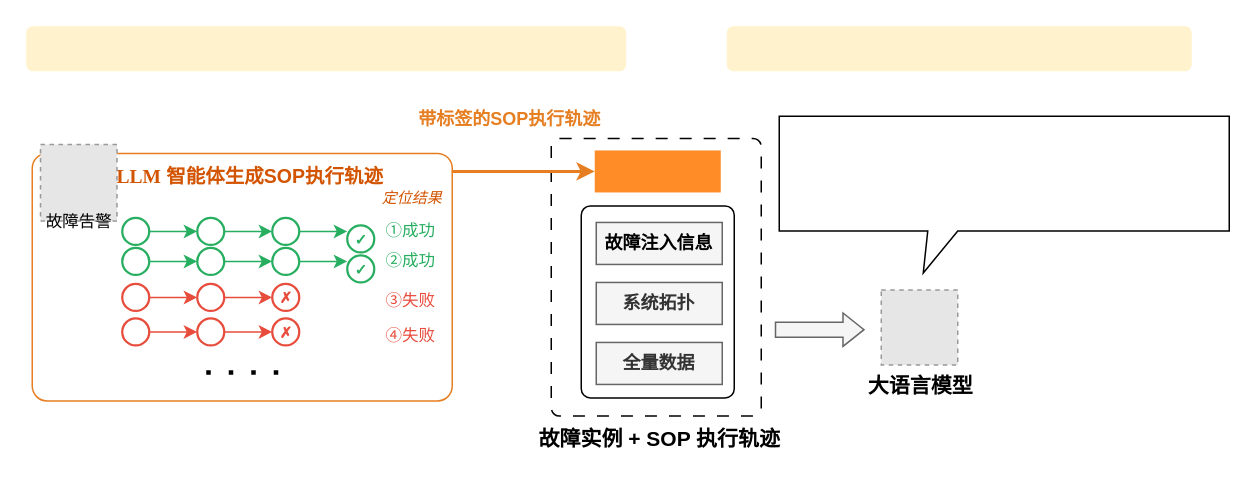
Some shapes in this 1256 by 486 pixel diagram are drawn without their labels. Grey dashed boxes stand in for pictures. Here are the shapes that lost their labels. From the top down, the box of each, then its label:
(26, 26, 626, 70): Step1. LLM 智能体基于故障实例生成多条SOP 执行轨迹
(726, 26, 1191, 70): Step2. SOP 执行轨迹为 SOP 构建提供参考
(594, 150, 720, 192): SOP 执行轨迹
(778, 115, 1229, 273): 故障位于: 数据库侧 故障类型: 连接池耗尽 根据系统拓扑、系统告警信息与 SOP执行轨迹 中的诊断过程，生成 SOP 为: XX
